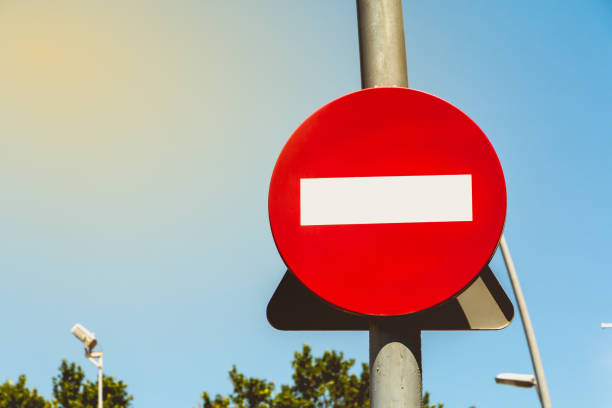Girilmez: (272, 84, 508, 315)
